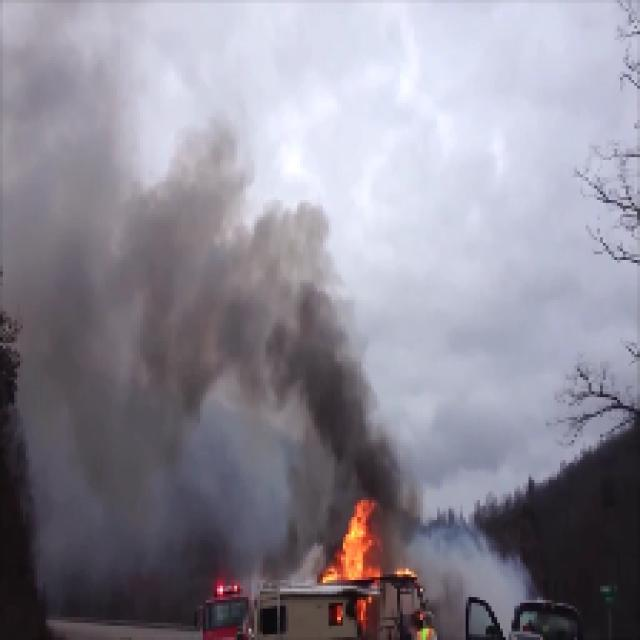fire: (333, 510, 374, 580)
smoke: (55, 214, 242, 370), (252, 297, 334, 385), (318, 390, 380, 492)
